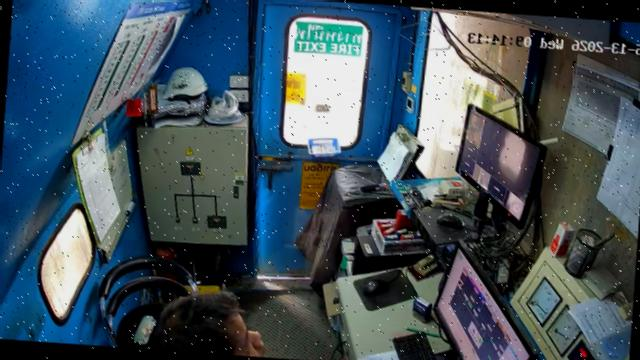Head: (159, 292, 264, 356)
